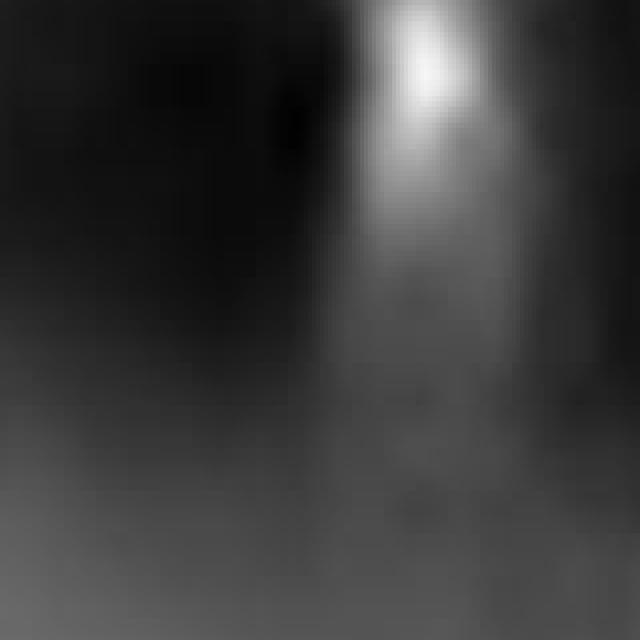person: (305, 1, 529, 353)
